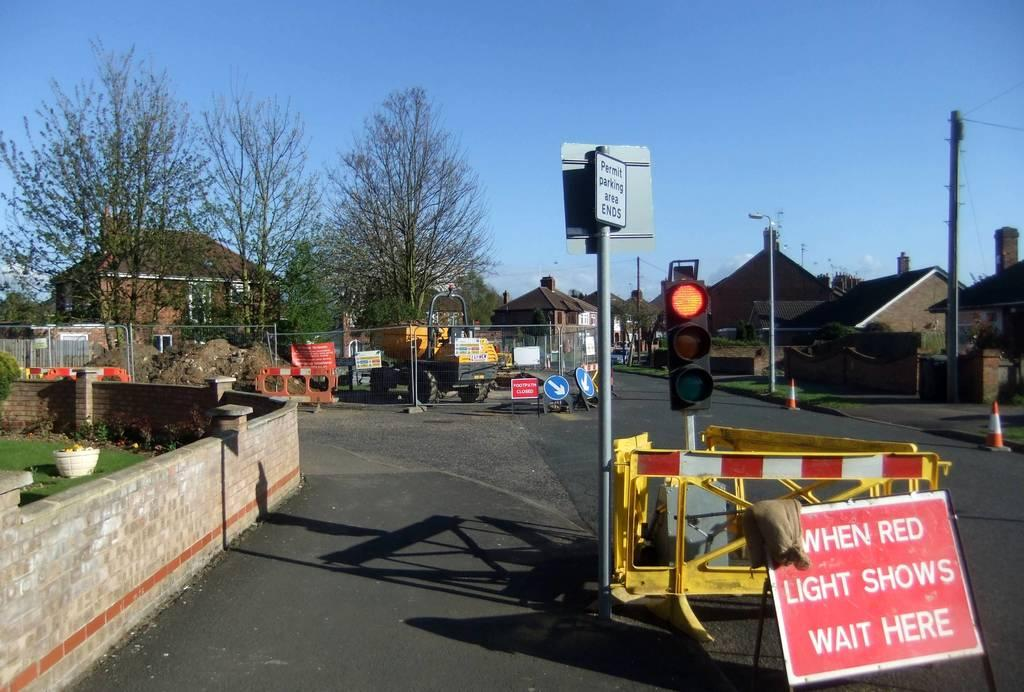red_light: (662, 281, 715, 410)
